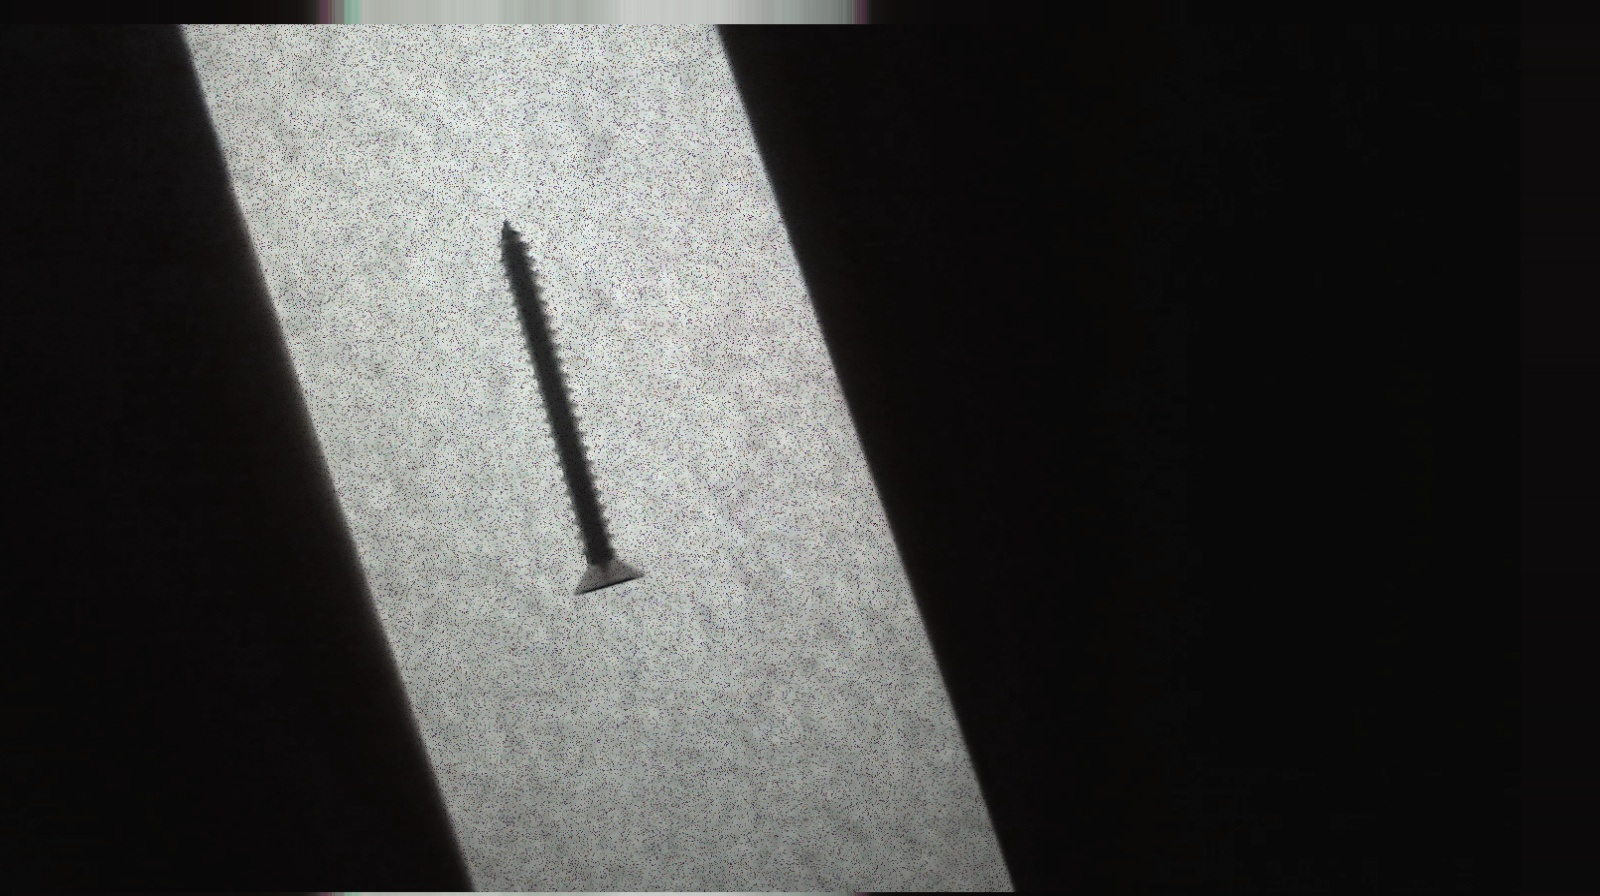S002: (438, 193, 677, 620)
